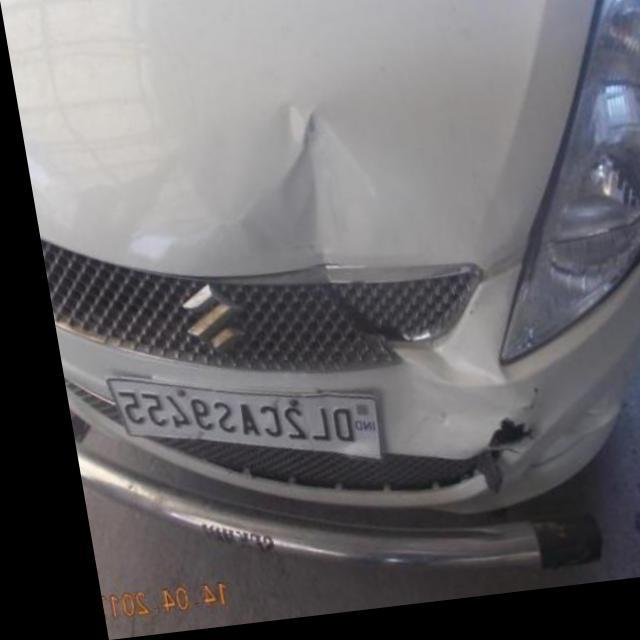crack: (303, 284, 404, 364), (444, 449, 492, 510)
dent: (163, 112, 418, 282), (372, 350, 486, 402)
no part: (459, 427, 520, 465)
